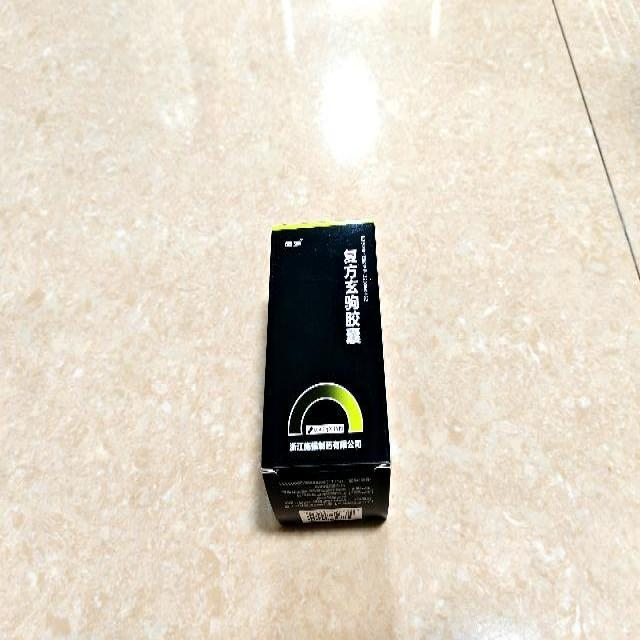box: (260, 220, 392, 526)
